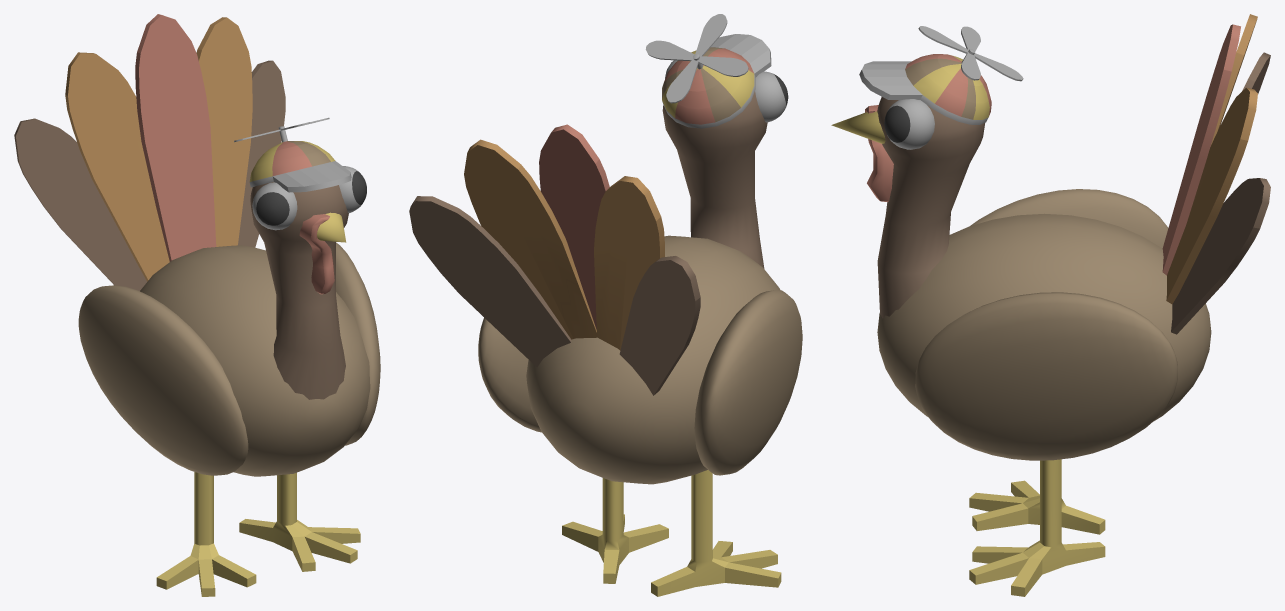
The model's file is TURKEY.fbx.
The picture shows the model from 3 angles, left to right: view 1: azimuth 30°, elevation 25°; view 2: azimuth 150°, elevation 25°; view 3: azimuth 270°, elevation 25°; orthographic projection. The views are drawn at different scales.
Parts seen in each view (by area): view 1: pCube5, pSphere1, pSphere4, pCube2, pSphere2, pPlane1, pCylinder1, pSphere3, pCube1, pCone1; view 2: pCube5, pSphere1, pSphere4, pSphere2, pPlane1, pCube2, pCylinder1, pCube10, pSphere3; view 3: pSphere4, pSphere1, pCube5, pSphere2, pPlane1, pCylinder1, pCube2, pSphere3, pCube10, pCube1, pCone1.
Part boxes in pixels (bbox=[...]): pCube5: bbox=[14, 17, 285, 291]; pSphere1: bbox=[140, 245, 370, 476]; pSphere4: bbox=[78, 242, 380, 475]; pCube2: bbox=[135, 14, 216, 261]; pSphere2: bbox=[250, 181, 348, 399]; pPlane1: bbox=[156, 472, 360, 596]; pCylinder1: bbox=[249, 126, 351, 192]; pSphere3: bbox=[252, 166, 366, 230]; pCube1: bbox=[299, 214, 334, 294]; pCone1: bbox=[317, 212, 346, 242]; pCube5: bbox=[409, 139, 700, 395]; pSphere1: bbox=[526, 235, 780, 484]; pSphere4: bbox=[478, 290, 802, 475]; pSphere2: bbox=[662, 91, 767, 268]; pPlane1: bbox=[562, 470, 781, 596]; pCube2: bbox=[539, 124, 609, 329]; pCylinder1: bbox=[662, 34, 771, 128]; pCube10: bbox=[645, 14, 748, 103]; pSphere3: bbox=[665, 60, 788, 122]; pSphere4: bbox=[915, 189, 1177, 460]; pSphere1: bbox=[877, 213, 1211, 421]; pCube5: bbox=[1166, 14, 1270, 334]; pSphere2: bbox=[877, 97, 984, 318]; pPlane1: bbox=[969, 459, 1105, 596]; pCylinder1: bbox=[859, 49, 991, 124]; pCube2: bbox=[1162, 24, 1240, 275]; pSphere3: bbox=[884, 99, 934, 149]; pCube10: bbox=[918, 26, 1023, 81]; pCube1: bbox=[865, 105, 893, 201]; pCone1: bbox=[831, 111, 885, 143].
Bounding box in the file's own units: 5.24 × 8.96 × 6.88.
